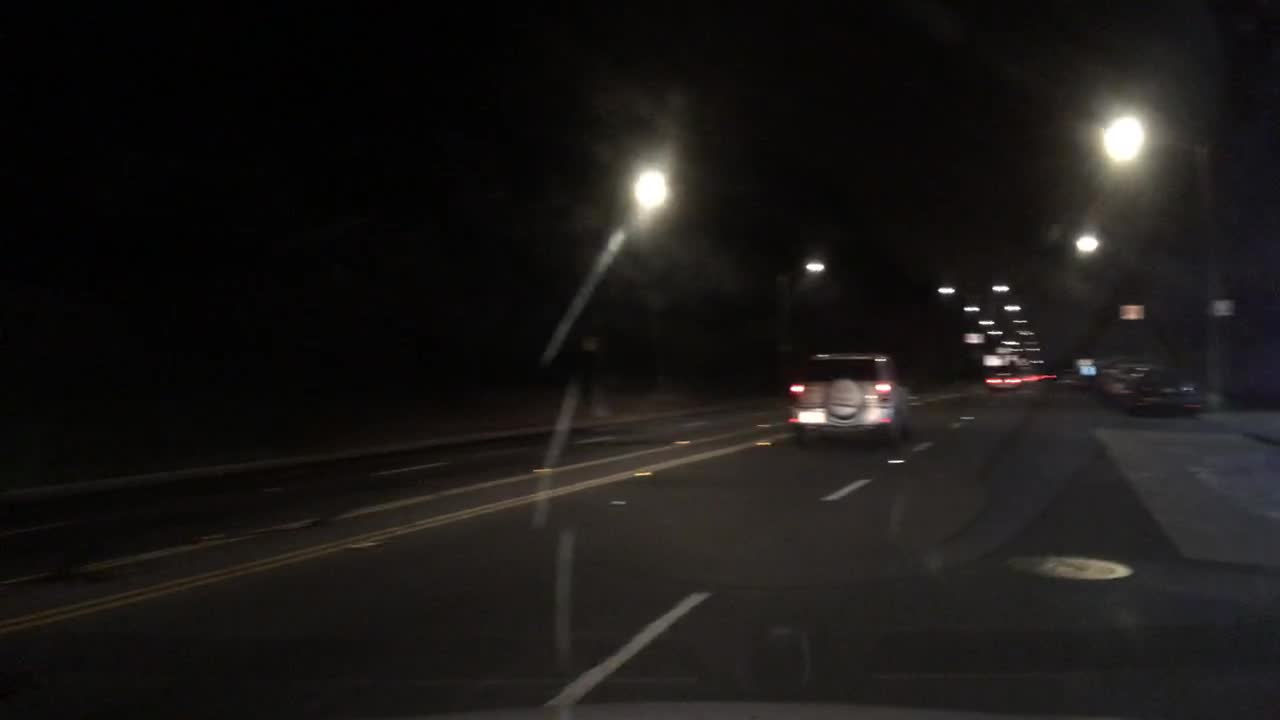car: (785, 348, 915, 443), (1128, 351, 1206, 421), (1095, 356, 1140, 402), (986, 367, 1021, 390), (1020, 370, 1037, 385)
traffic sign: (1077, 364, 1096, 376)
